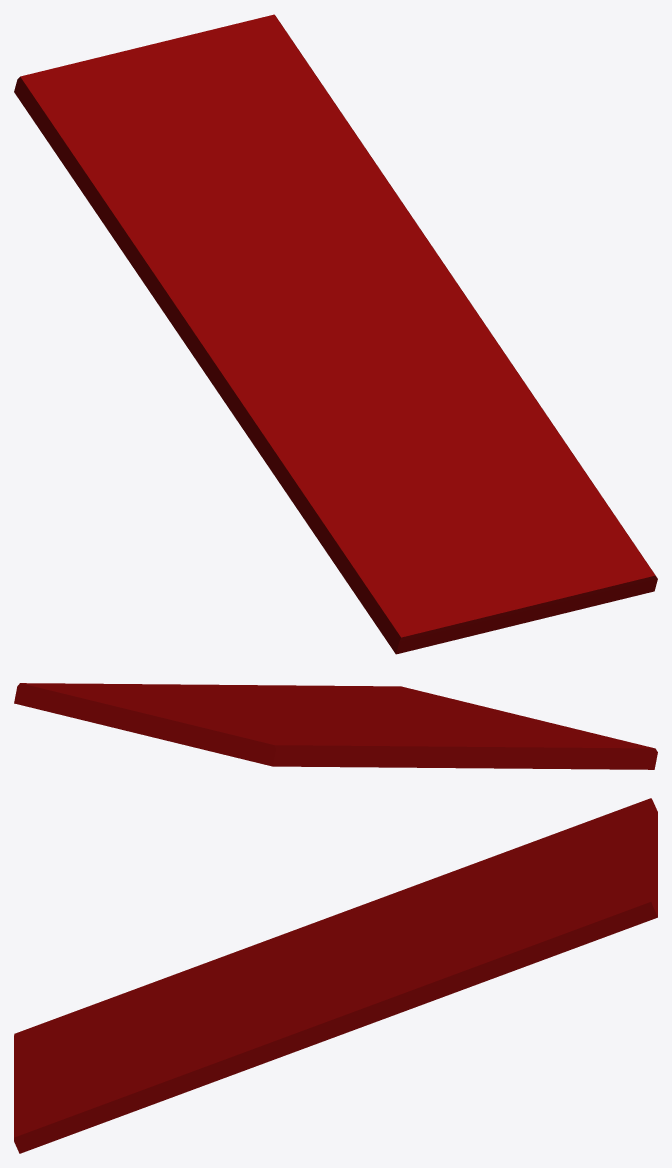
The model's file is Walkway (1).obj.
3 views of the same model, one above another, from view 1: azimuth 30°, elevation 25°; view 2: azimuth 150°, elevation 25°; view 3: azimuth 270°, elevation 25° (orthographic). The views are drawn at different scales.
Visible parts, largest first — view 1: Walkway (1)_0; view 2: Walkway (1)_0, Walkway (1)_1; view 3: Walkway (1)_0, Walkway (1)_1.
Part boxes in pixels (x1,y1,x2,y2): Walkway (1)_0: (14, 14, 657, 654); Walkway (1)_0: (20, 683, 657, 769); Walkway (1)_1: (14, 683, 275, 766); Walkway (1)_0: (14, 798, 657, 1153); Walkway (1)_1: (651, 798, 657, 916).
Bounding box in the file's own units: 5.69 × 6.33 × 14.69.
